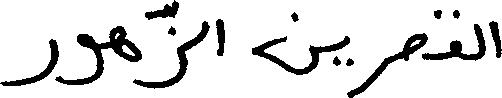X: (254, 7, 316, 79), (140, 0, 184, 93), (0, 34, 57, 90), (59, 29, 101, 89), (112, 21, 138, 89), (350, 52, 388, 97), (405, 28, 425, 65), (491, 16, 501, 62), (451, 5, 459, 62), (195, 16, 207, 50), (475, 19, 483, 65), (344, 31, 348, 97), (218, 14, 223, 60)
